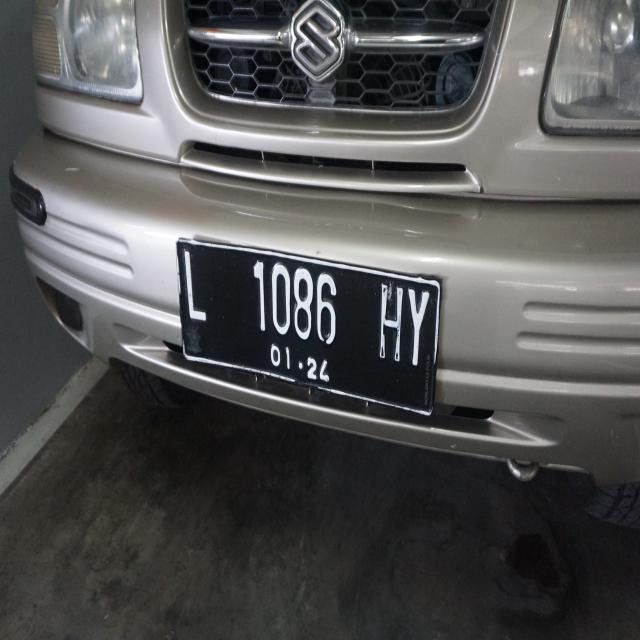0: (266, 256, 294, 338)
1: (247, 260, 274, 333)
6: (312, 266, 338, 352)
8: (291, 260, 314, 344)
H: (375, 274, 405, 369)
L: (178, 250, 210, 336)
Y: (406, 278, 432, 375)
